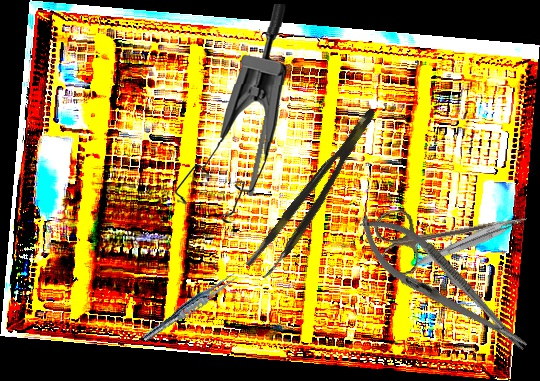Iris Scissors: (371, 184, 534, 279)
Needle Holder: (346, 200, 540, 369)
Pusher: (246, 63, 283, 197)
Speculum: (174, 2, 288, 224)
Tissue Forceps: (244, 106, 391, 281), (140, 268, 241, 346), (416, 211, 525, 274)
